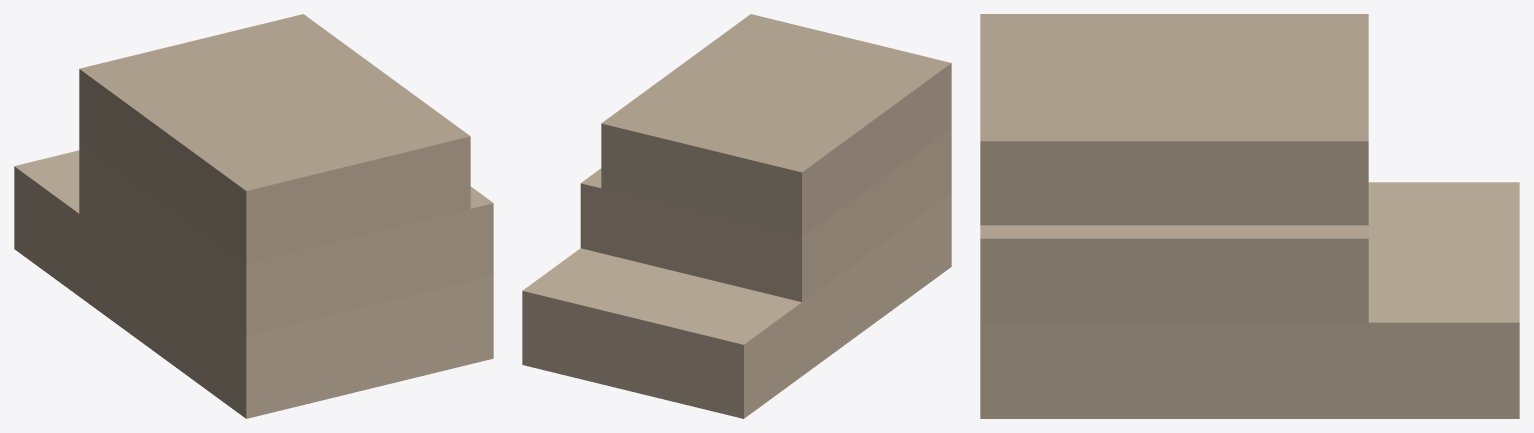
Rendered from massing.glb.
3 renders of one model, left to right at view 1: azimuth 30°, elevation 25°; view 2: azimuth 150°, elevation 25°; view 3: azimuth 270°, elevation 25°, orthographic. The views are drawn at different scales.
Parts seen in each view (by area): view 1: main/floor3/0/0, main/floor1/0/0, main/floor2/0/0; view 2: main/floor3/0/0, main/floor1/0/0, main/floor2/0/0; view 3: main/floor3/0/0, main/floor1/0/0, main/floor2/0/0.
Part boxes in pixels (<box>): main/floor3/0/0: <box>79,14,470,263</box>; main/floor1/0/0: <box>14,150,493,418</box>; main/floor2/0/0: <box>79,141,493,335</box>; main/floor3/0/0: <box>601,14,951,237</box>; main/floor1/0/0: <box>522,193,951,418</box>; main/floor2/0/0: <box>580,128,951,301</box>; main/floor3/0/0: <box>980,14,1368,225</box>; main/floor1/0/0: <box>980,182,1519,418</box>; main/floor2/0/0: <box>980,225,1368,322</box>.
Size of the model in its own units: 10 by 8.8 by 16.25.
